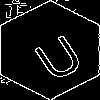U: (25, 25, 88, 83)
